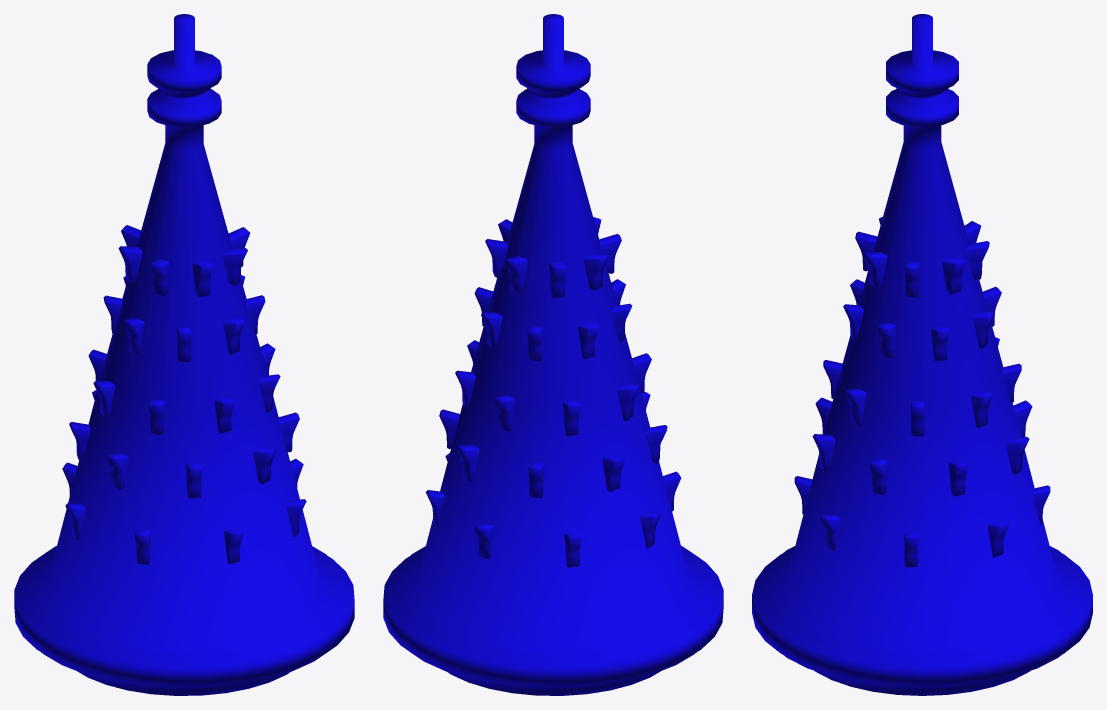
Rendered from SM_Far_Tower_Top.fbx.
The picture shows the model from 3 angles, left to right: view 1: azimuth 30°, elevation 25°; view 2: azimuth 150°, elevation 25°; view 3: azimuth 270°, elevation 25°; orthographic projection.
Parts seen in each view (by area): view 1: SM_Far_Tower_Top; view 2: SM_Far_Tower_Top; view 3: SM_Far_Tower_Top.
Boxes of the visible parts, x1,y1,x2,y2 form: SM_Far_Tower_Top: [14, 14, 354, 695]; SM_Far_Tower_Top: [383, 14, 723, 695]; SM_Far_Tower_Top: [752, 14, 1092, 695].
Size of the model in its own units: 19.83 by 40.02 by 19.83.
